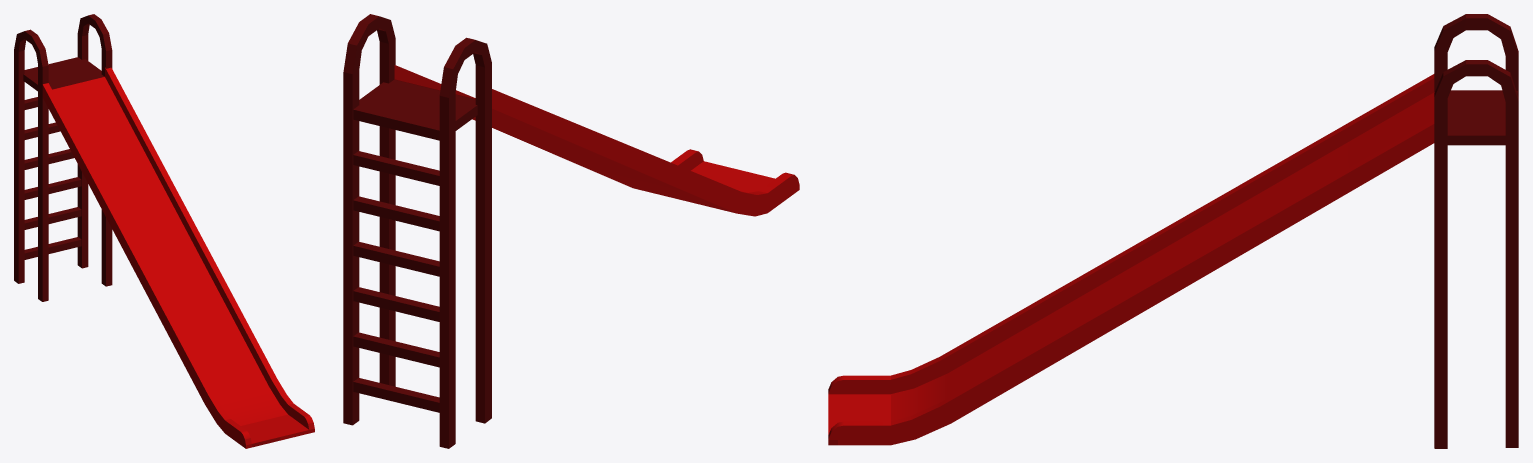
The model's file is Slide.glb.
3 views of the same model, side by side, from view 1: azimuth 30°, elevation 25°; view 2: azimuth 150°, elevation 25°; view 3: azimuth 270°, elevation 25° (orthographic). The views are drawn at different scales.
Parts seen in each view (by area): view 1: Slide; view 2: Slide; view 3: Slide.
Boxes of the visible parts, left/top/right/bottom form: Slide: left=14, top=14, right=314, bottom=448; Slide: left=343, top=14, right=799, bottom=448; Slide: left=828, top=14, right=1518, bottom=448.
Bounding box in the file's own units: 2.85 × 10.1 × 16.44.
